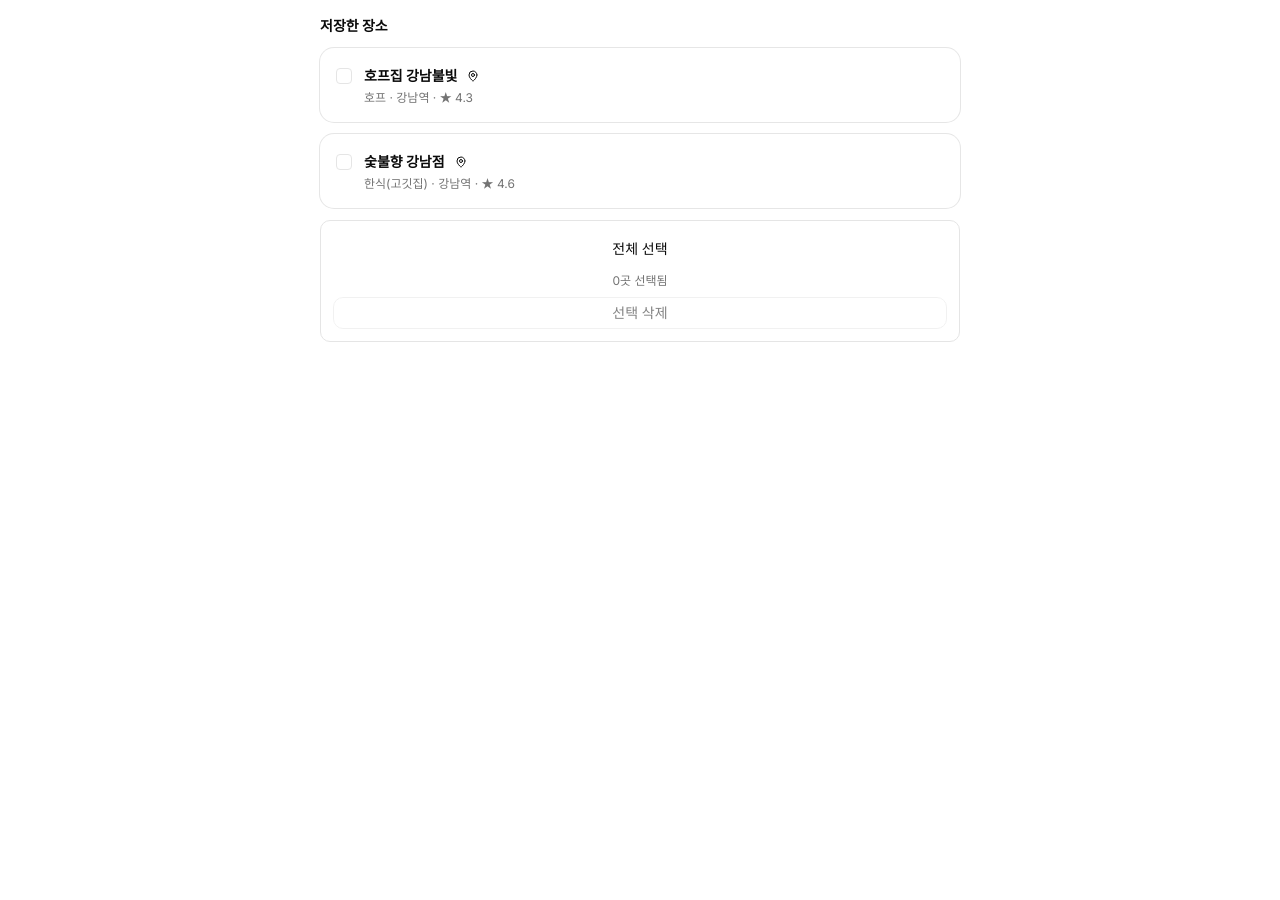
Test: SavedList › 전체 선택 후 선택 삭제 → 전체 삭제 API 한 번으로 처리되고 빈 상태가 된다
The width and height of the screenshot is (1280, 900).
Step 1. Click the button "전체 선택" → (640, 249), box [333, 233, 947, 265]
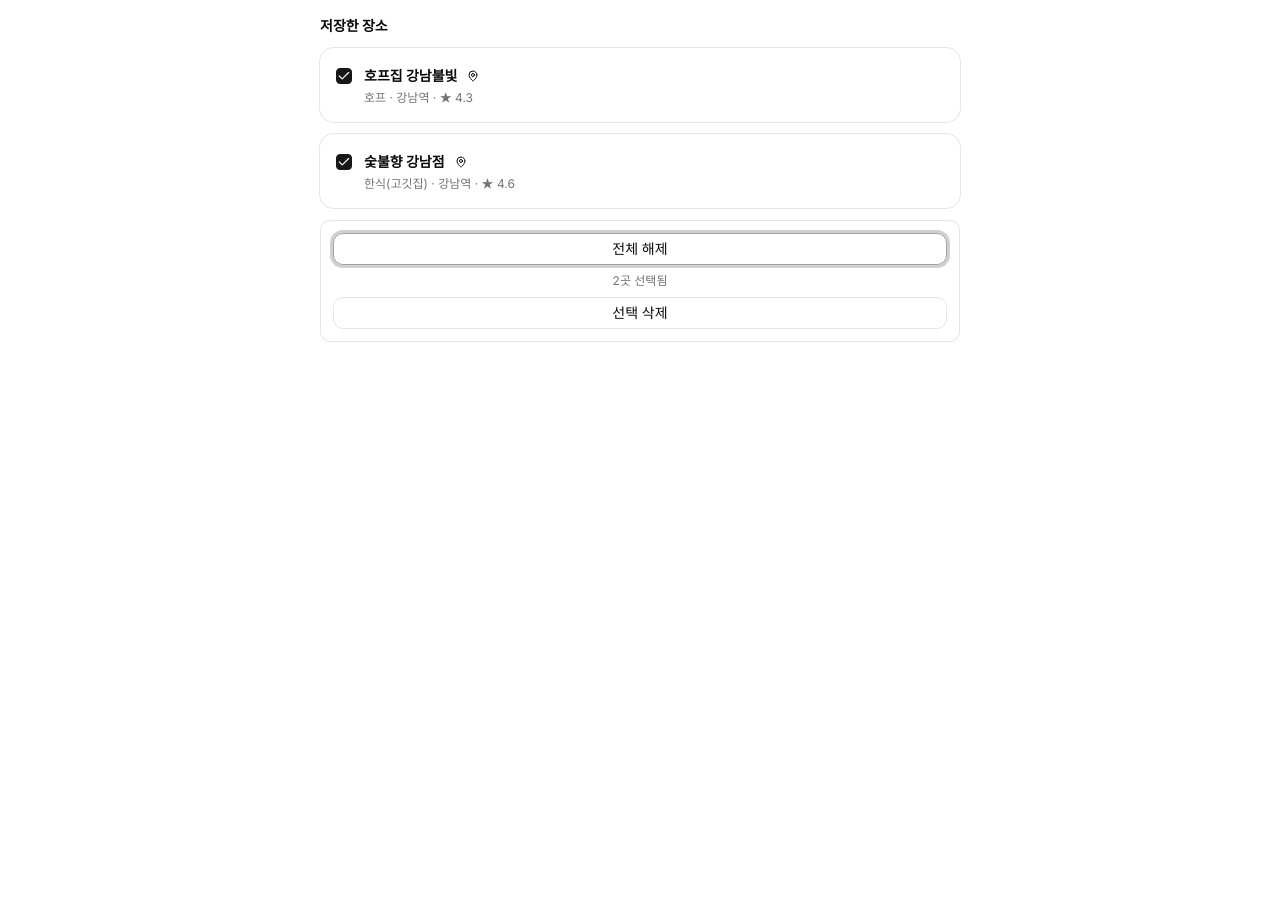
Step 2. Click the button "선택 삭제" → (640, 313), box [333, 297, 947, 329]
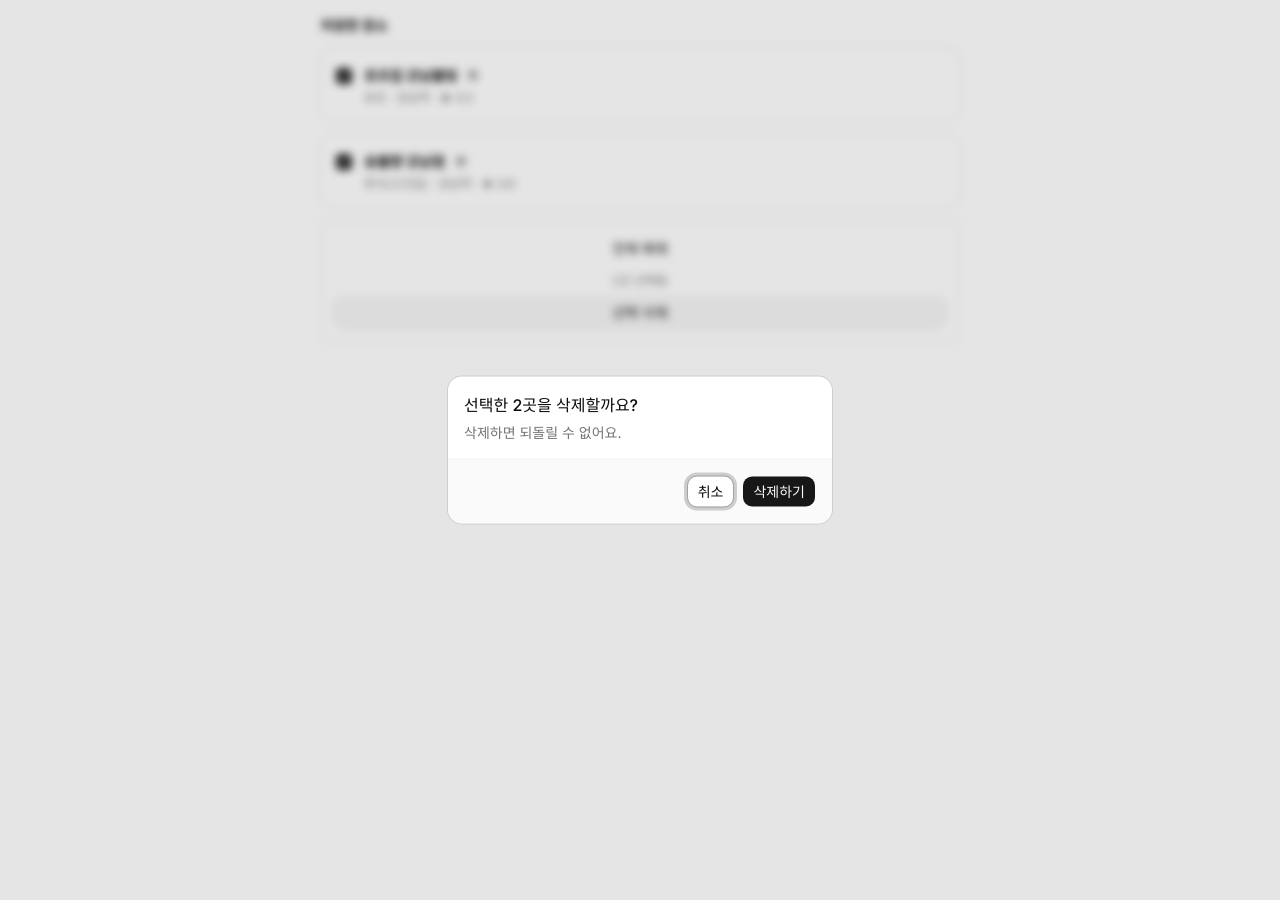
Step 3. Click the button "삭제하기" → (779, 492), box [742, 476, 816, 508]
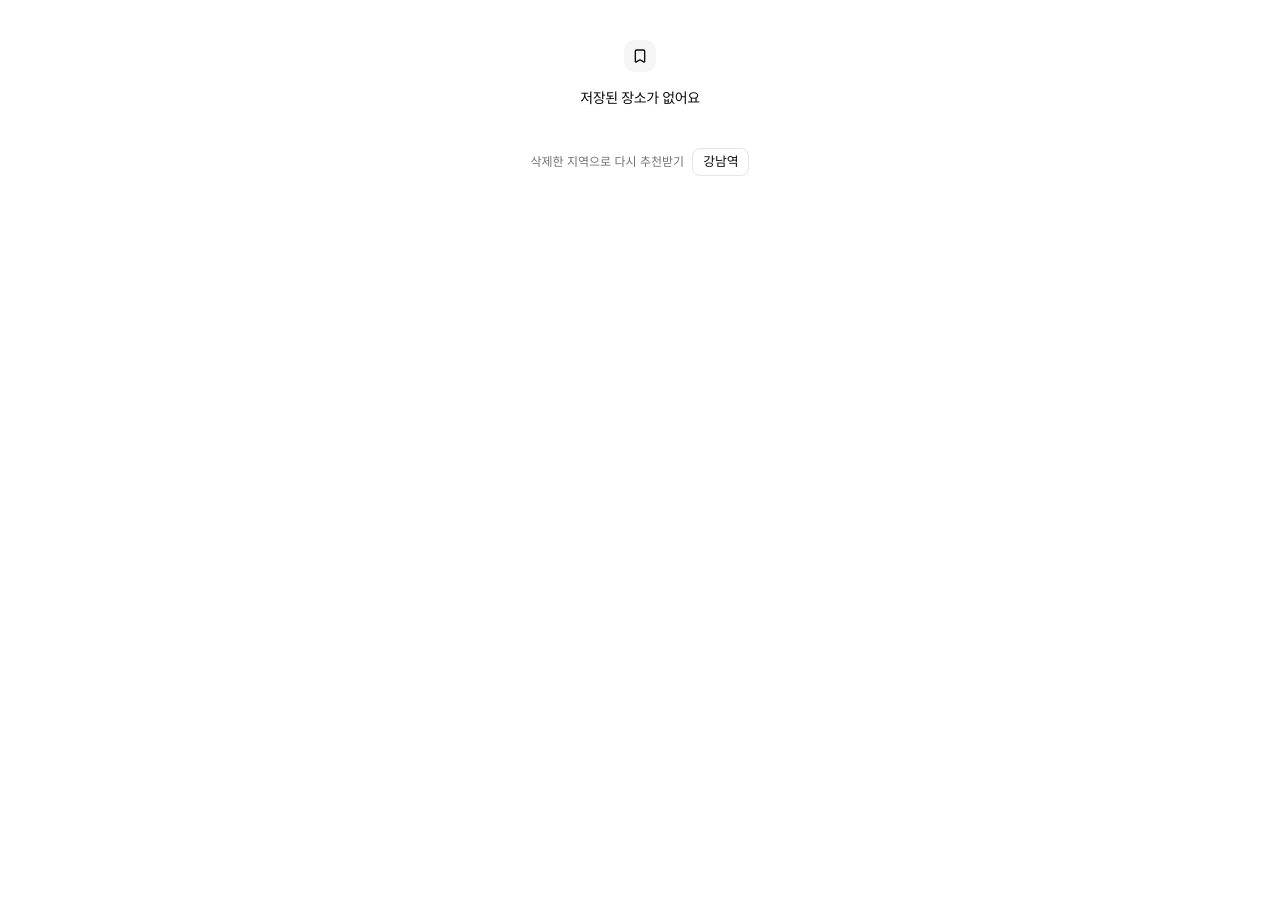
Expected: the text "저장된 장소가 없어요" is shown, [580, 88, 700, 108]
